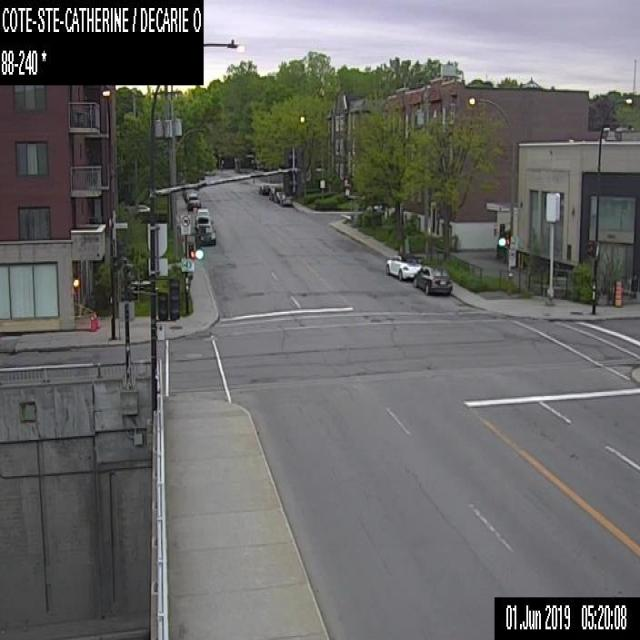construction: (614, 280, 620, 305), (93, 311, 98, 328), (90, 314, 94, 328)
vehicle: (413, 265, 452, 294), (385, 253, 421, 279), (195, 224, 215, 245), (195, 214, 210, 228), (196, 208, 211, 222), (187, 192, 200, 208), (279, 192, 292, 206), (268, 185, 280, 200), (258, 183, 270, 194)
